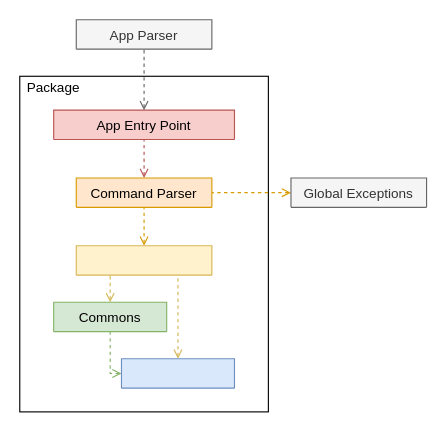
Image size: 446x432. Some labels were removed from this diagram. The shapes that lost their labels are listed below. From the top down, each one's centre as x and y in pixels, then its label:
At point (143, 260): "Commands".
At point (177, 373): "Exceptions".
